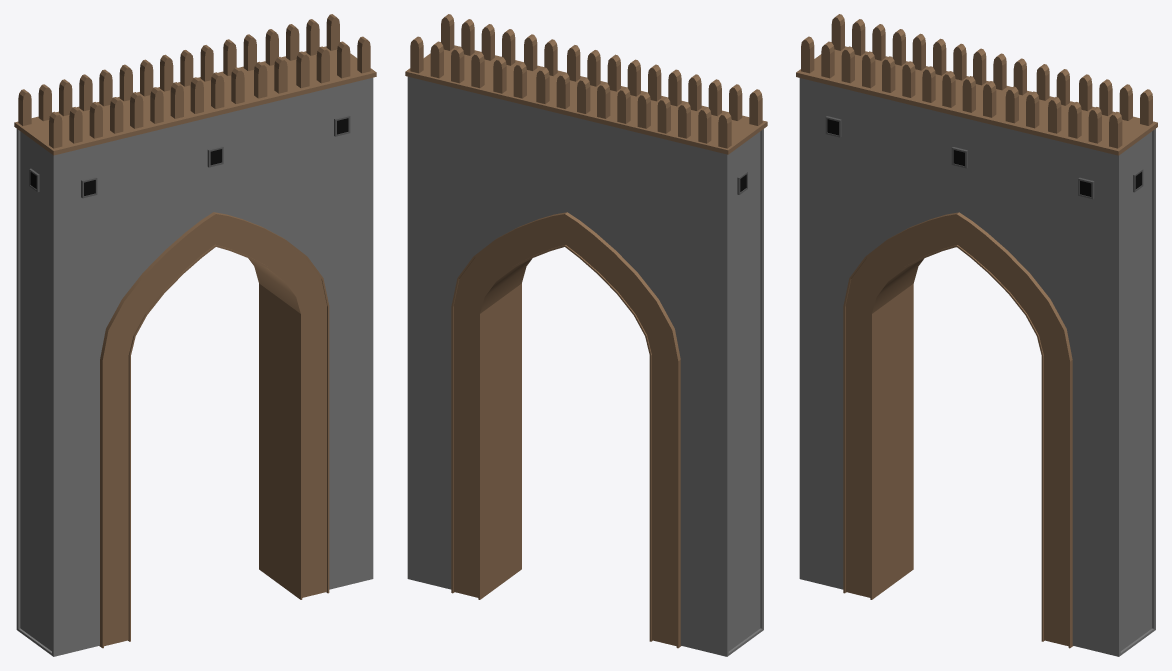
Rendered from SM_gate_arabian.fbx.
3 views of the same model, side by side, from view 1: azimuth 30°, elevation 25°; view 2: azimuth 150°, elevation 25°; view 3: azimuth 330°, elevation 25° (orthographic).
Parts seen in each view (by area): view 1: Box258; view 2: Box258; view 3: Box258.
Boxes of the visible parts, x1,y1,x2,y2 form: Box258: (14, 14, 376, 656); Box258: (405, 14, 767, 656); Box258: (796, 14, 1157, 656).
Bounding box in the file's own units: 227 × 51.02 × 363.
